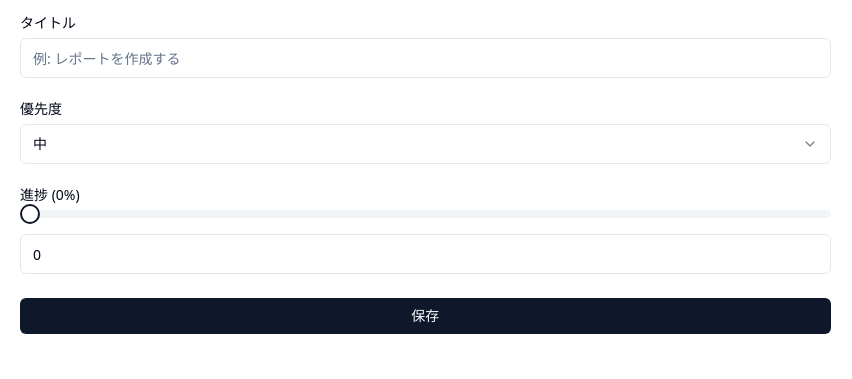
Test case: TodoForm › バリデーション › タイトルが空の場合、エラーメッセージが表示される
The width and height of the screenshot is (852, 379).
Click the button "保存" at coordinates (425, 316), box [20, 298, 831, 334]
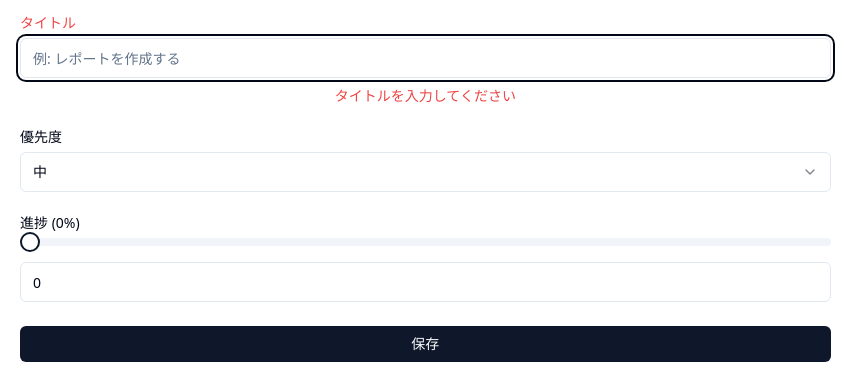
Now the text "タイトルを入力してください" is shown, box [335, 86, 516, 105]
